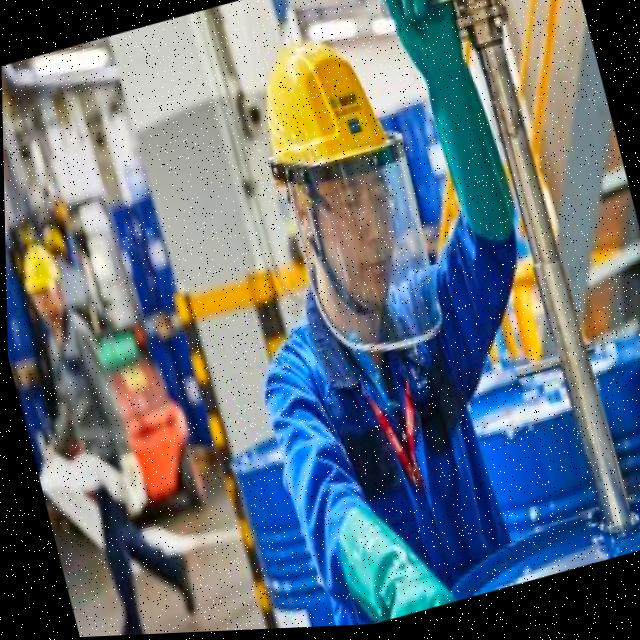illegal_helmet: (232, 13, 462, 392)
